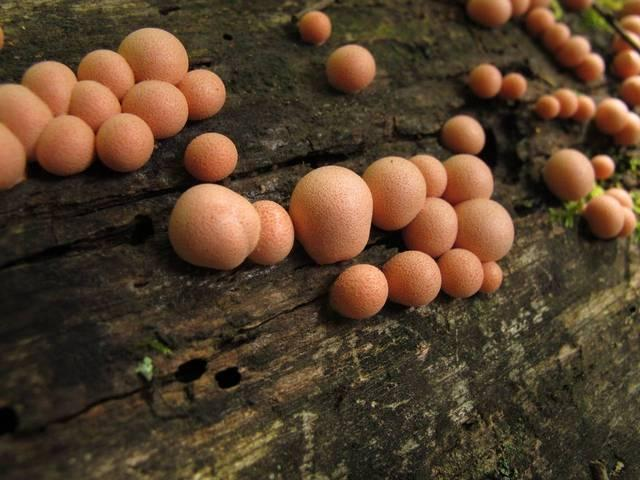poisonous_mushroom: (375, 0, 640, 348), (0, 25, 228, 188), (288, 164, 373, 264), (167, 182, 261, 270), (361, 154, 427, 231), (328, 262, 388, 319), (247, 198, 294, 265), (542, 147, 595, 201), (183, 131, 238, 181), (324, 43, 376, 93), (297, 10, 332, 45)
